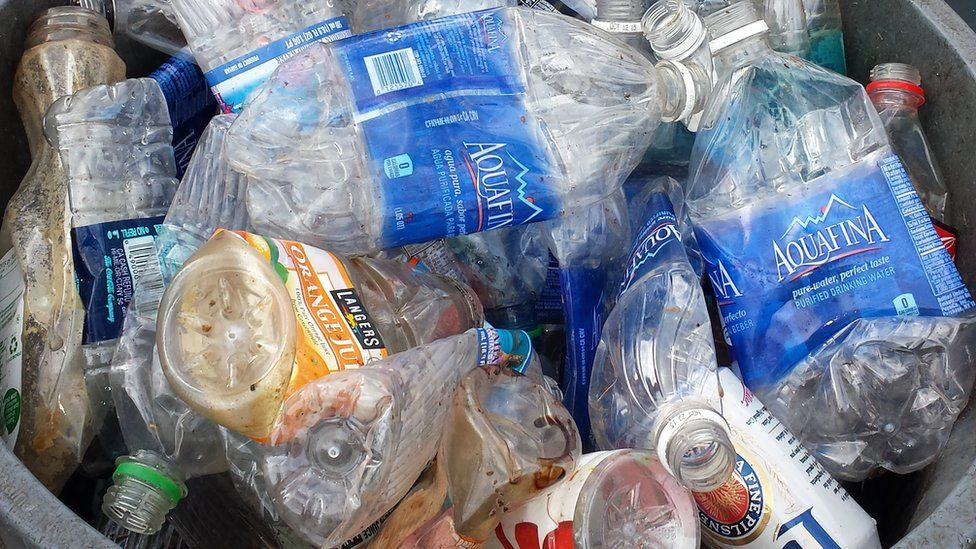plastic_bottle: (26, 183, 635, 545), (604, 1, 976, 491), (4, 5, 330, 549), (180, 13, 770, 241), (159, 293, 674, 549), (491, 141, 829, 513), (27, 56, 253, 549), (553, 1, 886, 171), (847, 18, 974, 348)
